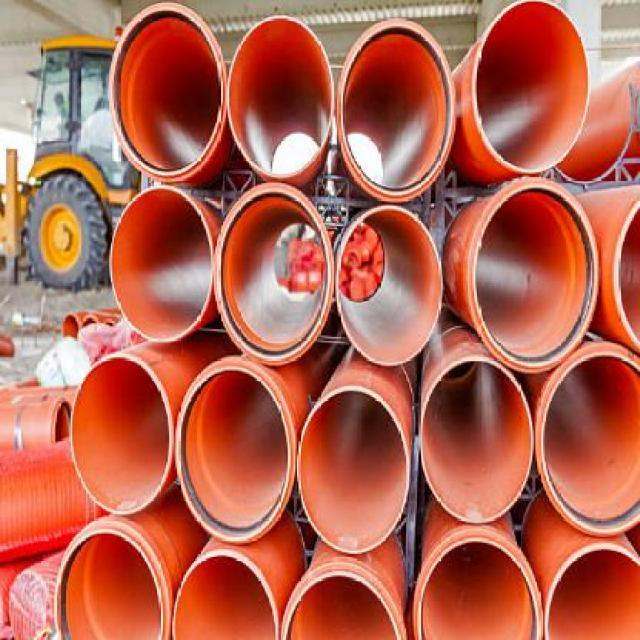pipe: (472, 182, 598, 370), (214, 183, 335, 366), (109, 2, 224, 184), (340, 22, 456, 199), (177, 368, 292, 542), (476, 2, 590, 174), (297, 386, 410, 554), (420, 358, 533, 524), (226, 14, 334, 178), (540, 357, 638, 536), (337, 206, 443, 366), (109, 186, 213, 343), (71, 356, 171, 517), (417, 539, 542, 640), (54, 529, 166, 639), (173, 553, 279, 640), (544, 547, 640, 638), (283, 571, 402, 638)
